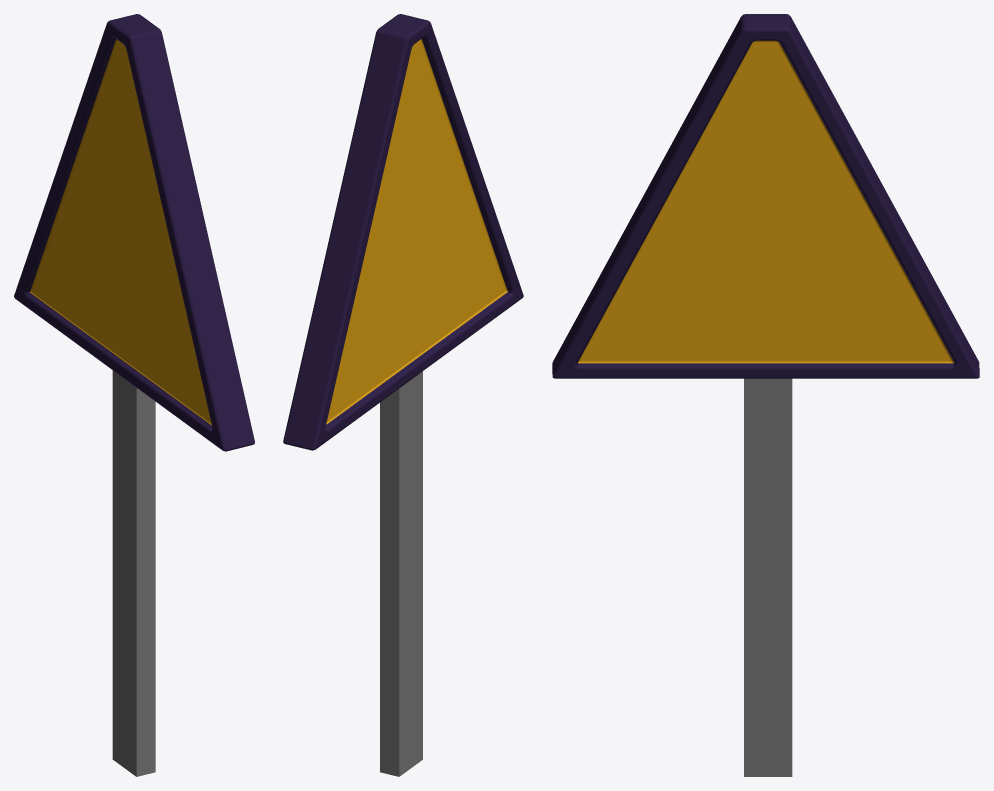
File: Sign.fbx
3 views of the same model, side by side, from view 1: azimuth 30°, elevation 25°; view 2: azimuth 150°, elevation 25°; view 3: azimuth 270°, elevation 25° (orthographic).
Visible parts, largest first — view 1: Cube.056; view 2: Cube.056; view 3: Cube.056.
Part boxes in pixels (x1,y1,x2,y2): Cube.056: (14, 14, 254, 776); Cube.056: (283, 14, 523, 776); Cube.056: (552, 14, 979, 776).
Size of the model in its own units: 9.73 by 208 by 107.
